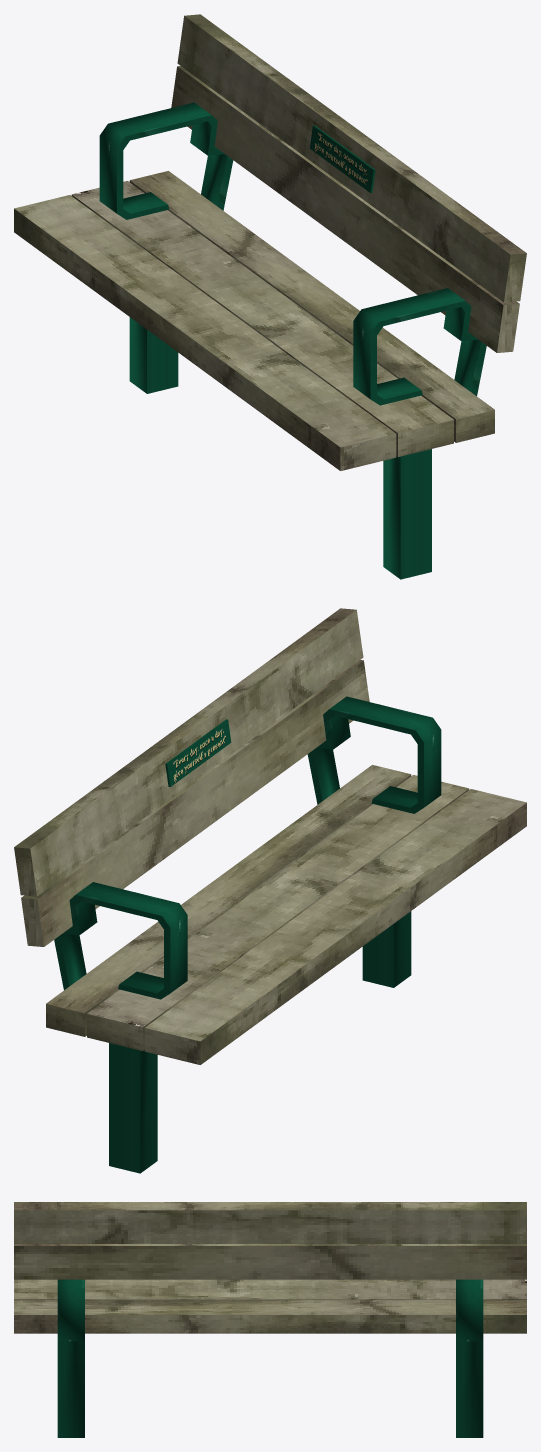
The model's file is ForestBench2.glb.
3 views of the same model, one above another, from view 1: azimuth 30°, elevation 25°; view 2: azimuth 150°, elevation 25°; view 3: azimuth 270°, elevation 25° (orthographic). The views are drawn at different scales.
Visible parts, largest first — view 1: ParkBench2; view 2: ParkBench2; view 3: ParkBench2.
Boxes of the visible parts, left/top/right/bottom form: ParkBench2: left=14, top=14, right=526, bottom=579; ParkBench2: left=14, top=608, right=526, bottom=1173; ParkBench2: left=14, top=1202, right=526, bottom=1437.
Bounding box in the file's own units: 0.8236 × 1.37 × 2.5.
Materials: 2 (2 with a texture image).
